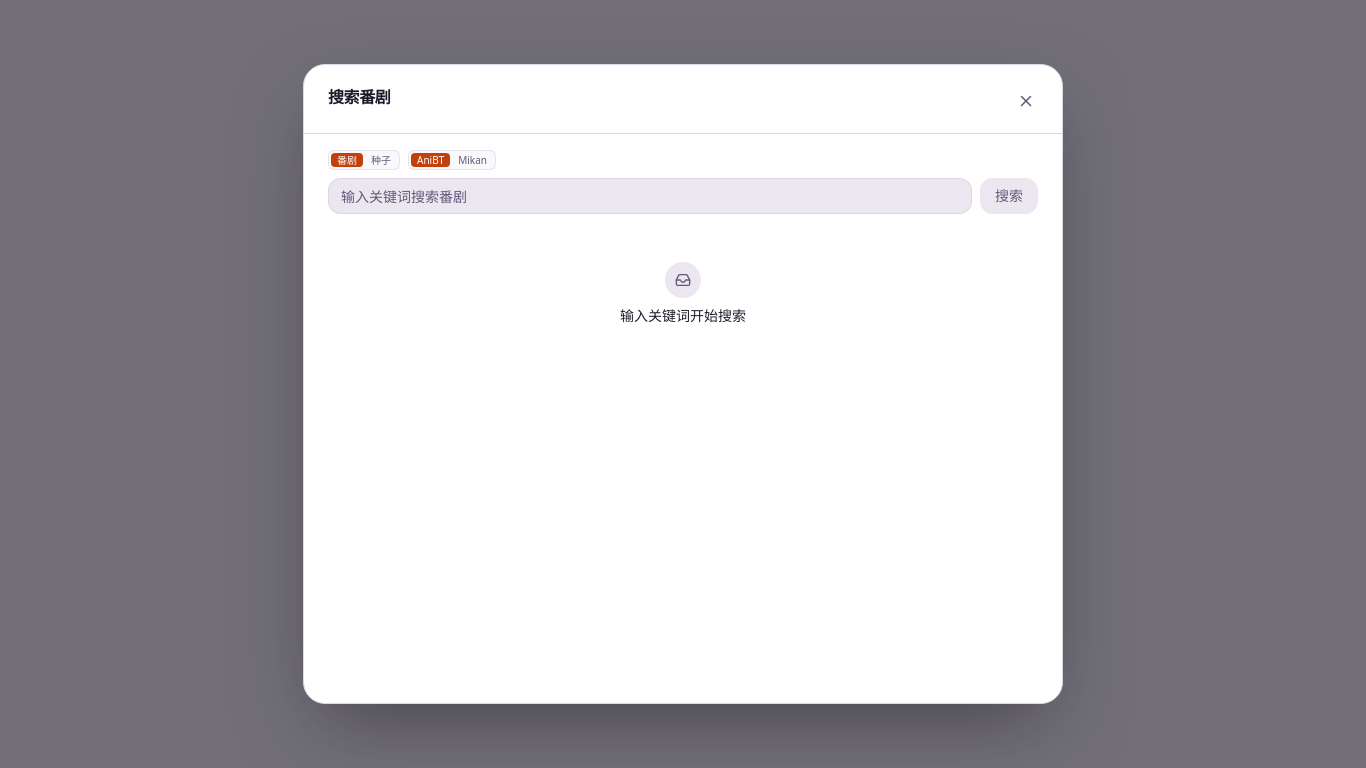
Scenario: GlobalSearchDialog（顶栏全局搜索） › 切换站点或模式清空上一批结果
Step 1. Type "BanG Dream" into the field with placeholder "输入关键词搜索番剧" → coordinates (650, 196), box [328,178,972,214]
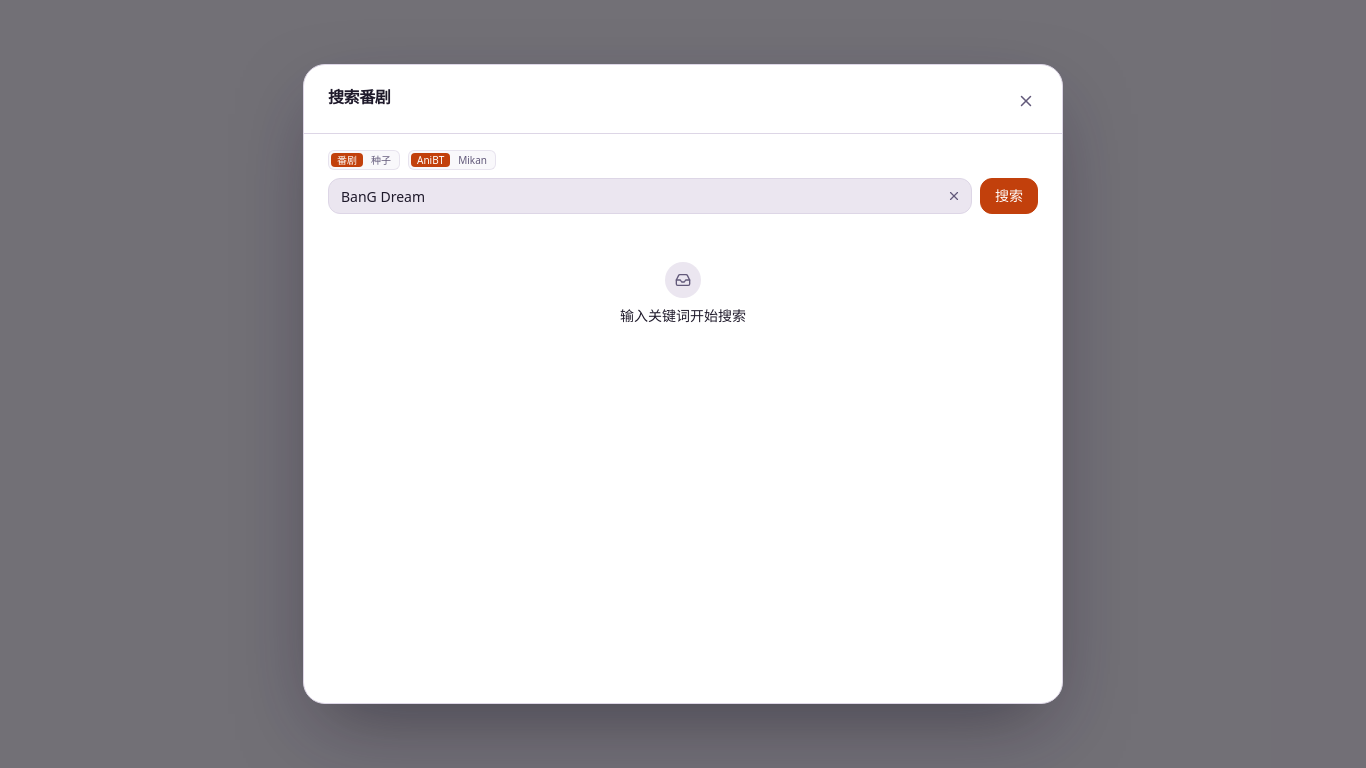
Step 2. Submit the form with placeholder "输入关键词搜索番剧", box [328,178,1038,214]
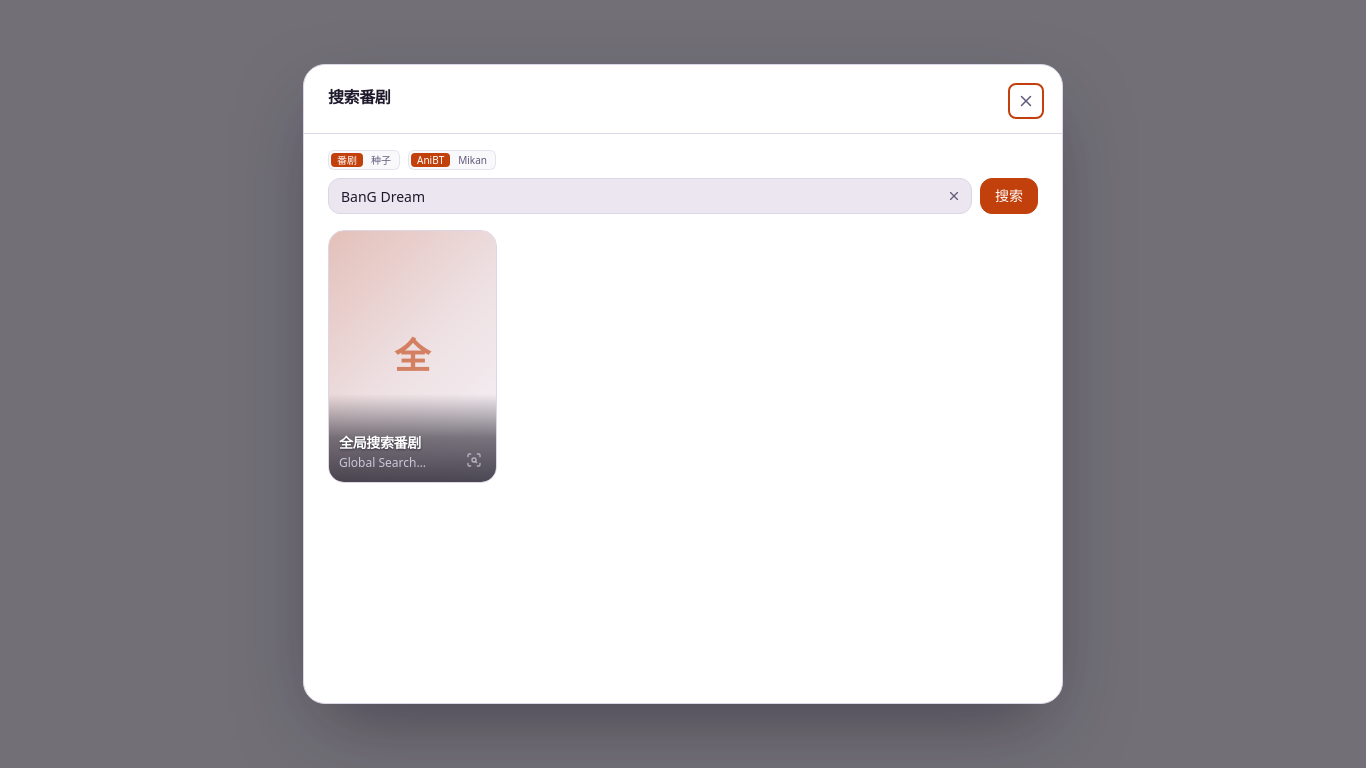
expect the heading "全局搜索番剧" is shown: met, box [339,432,421,452]
Step 3. Click the radio button labelled "Mikan" → coordinates (473, 160), box [458,153,487,167]
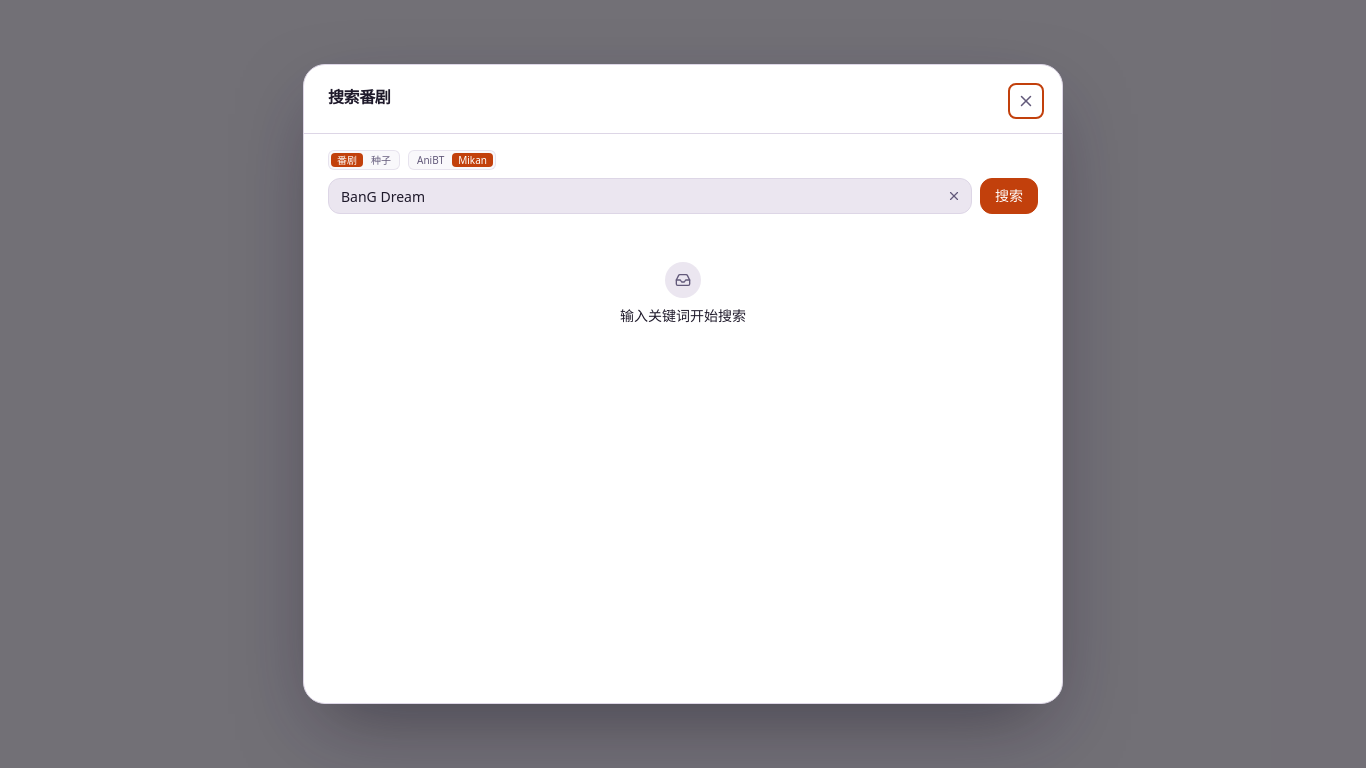
expect the heading "全局搜索番剧" is gone: met
expect the text "输入关键词开始搜索" is shown: met, box [620,306,746,326]
